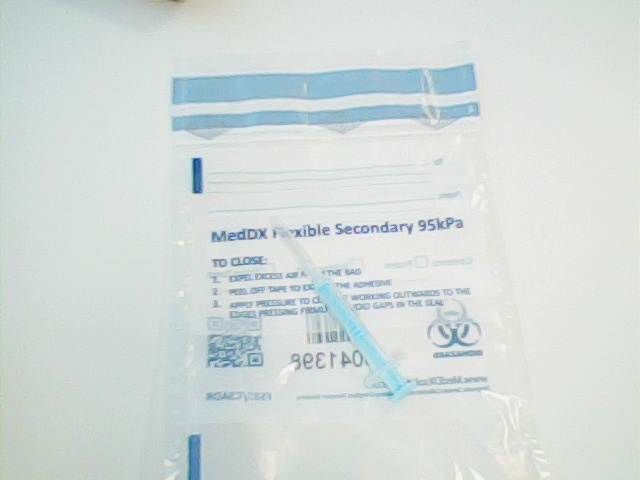syringe: (258, 204, 421, 407)
